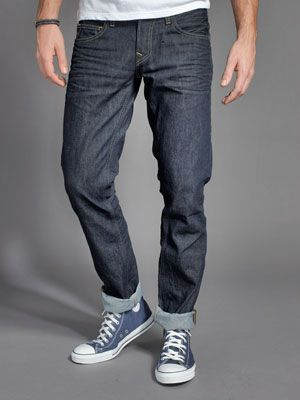Jeans: (62, 21, 217, 328)
